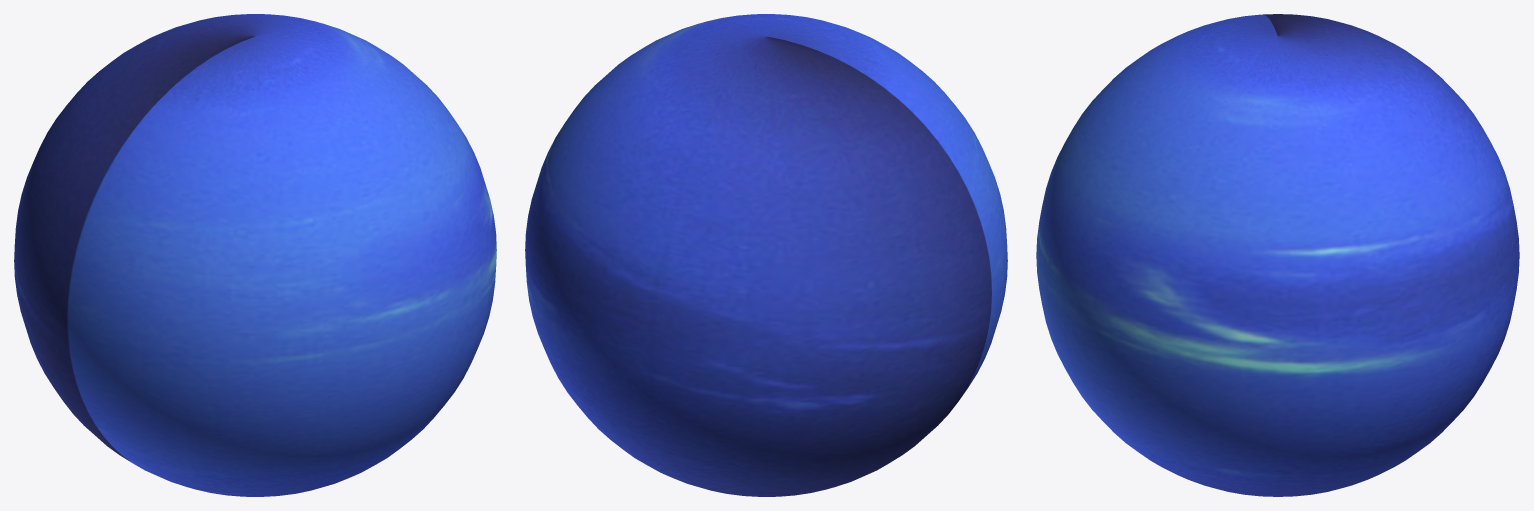
The model's file is neptune.glb.
3 renders of one model, left to right at view 1: azimuth 30°, elevation 25°; view 2: azimuth 150°, elevation 25°; view 3: azimuth 270°, elevation 25°, orthographic.
Visible parts, largest first — view 1: sun_GEO 2; view 2: sun_GEO 2; view 3: sun_GEO 2.
Boxes of the visible parts, bbox=[...] form: sun_GEO 2: bbox=[14, 14, 496, 496]; sun_GEO 2: bbox=[525, 14, 1007, 496]; sun_GEO 2: bbox=[1036, 14, 1519, 496].
Bounding box in the file's own units: 0.297 × 0.297 × 0.297.
Materials: 1 (1 with a texture image).
